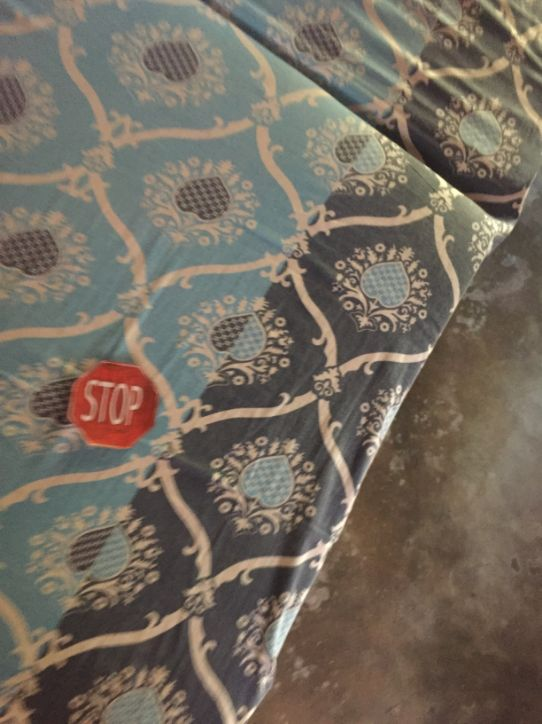stop: (64, 358, 155, 449)
